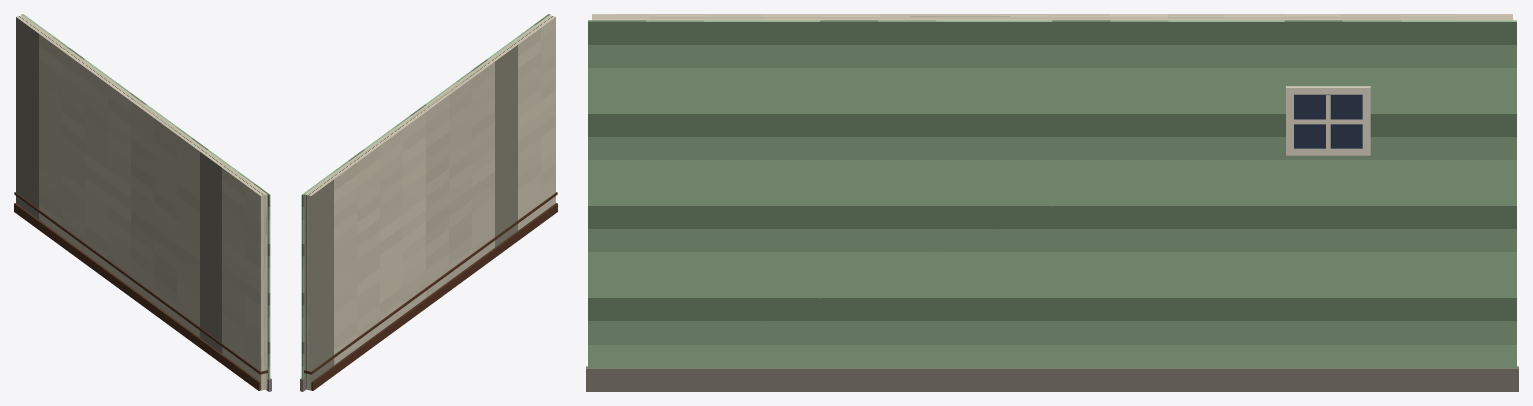
Rendered from right.glb.
3 views of the same model, side by side, from view 1: azimuth 30°, elevation 25°; view 2: azimuth 150°, elevation 25°; view 3: azimuth 270°, elevation 25° (orthographic). The views are drawn at different scales.
Visible parts, largest first — view 1: Box1, Box2, Box9, Box3, Box10; view 2: Box1, Box2, Box9, Box3, Box10; view 3: Box3, Box4, Box1, Box6, Box5.
Boxes of the visible parts, x1=… form: Box1: x1=16, y1=15, x2=267, y2=390; Box2: x1=14, y1=203, x2=260, y2=390; Box9: x1=16, y1=196, x2=267, y2=389; Box3: x1=21, y1=14, x2=270, y2=379; Box10: x1=14, y1=192, x2=267, y2=374; Box1: x1=304, y1=15, x2=555, y2=390; Box2: x1=311, y1=203, x2=557, y2=390; Box9: x1=304, y1=196, x2=555, y2=389; Box3: x1=301, y1=14, x2=550, y2=379; Box10: x1=304, y1=192, x2=557, y2=374; Box3: x1=588, y1=20, x2=1516, y2=368; Box4: x1=586, y1=366, x2=1518, y2=391; Box1: x1=592, y1=14, x2=1512, y2=20; Box6: x1=1294, y1=94, x2=1362, y2=148; Box5: x1=1286, y1=86, x2=1370, y2=155.
Size of the model in its own units: 0.278 by 4.14 by 9.47.
Materials: 6 (2 with a texture image).
